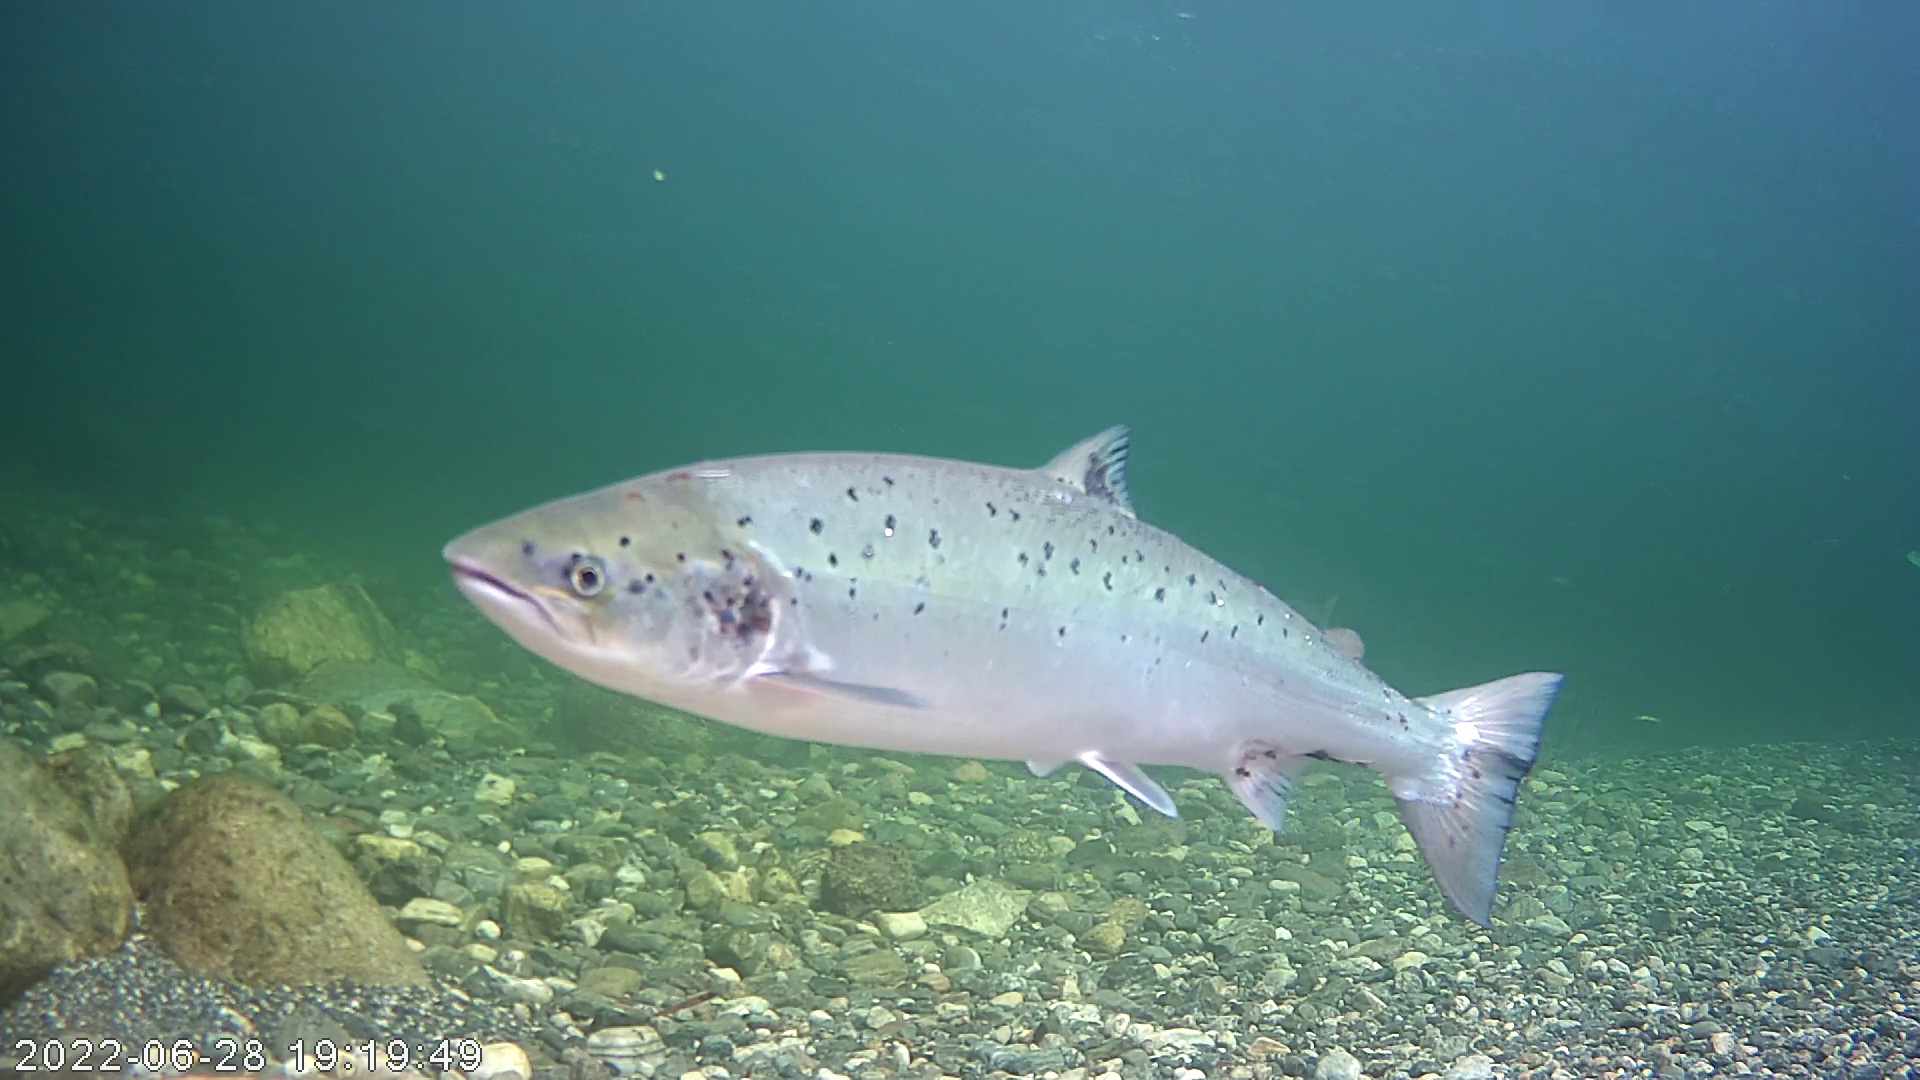salmon: (455, 319, 1577, 953)
